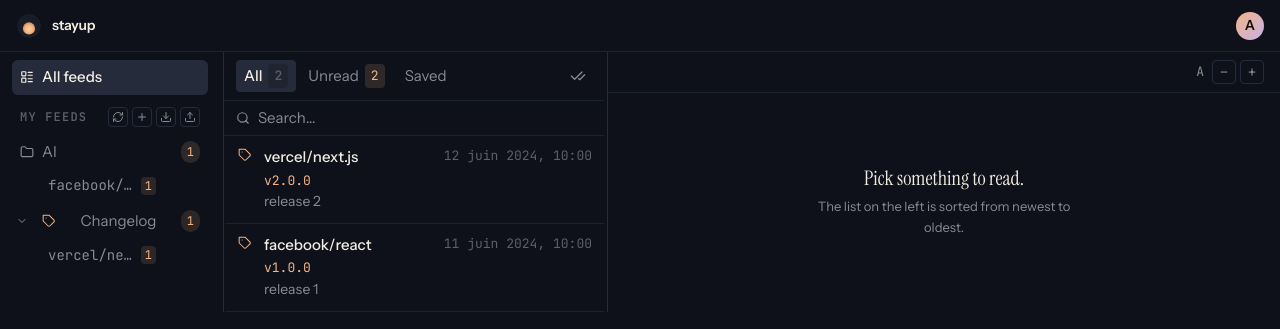
Test: saved filter › lists the saved items from the API
What coordinates should you click on to do the following:
click the button "Saved"
I would click on:
 (426, 76)
Its box is [397, 60, 455, 91].
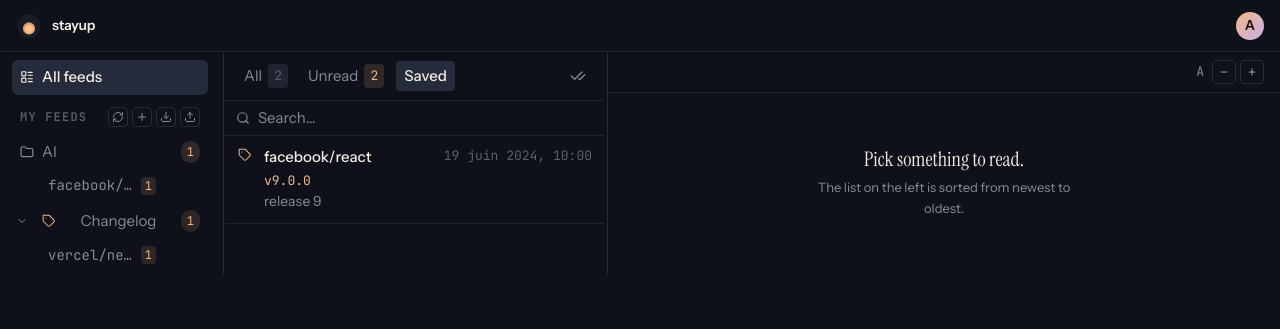
Check: the text "v9.0.0" is shown, box [264, 172, 311, 188]
